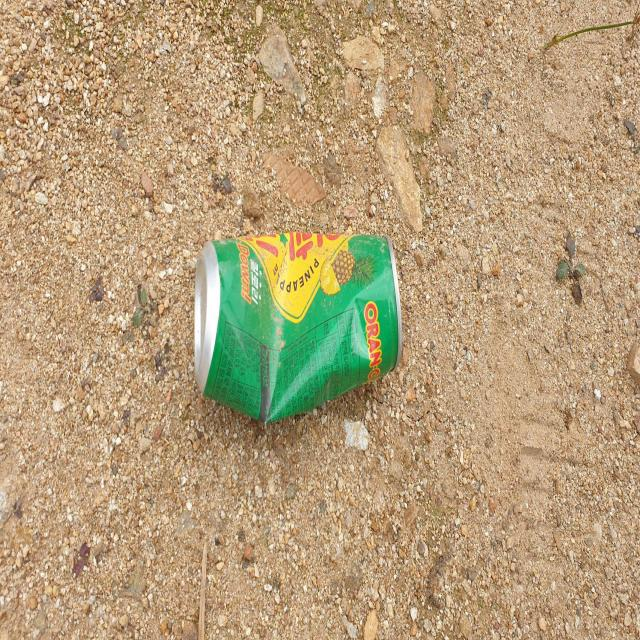can: (194, 231, 402, 423)
